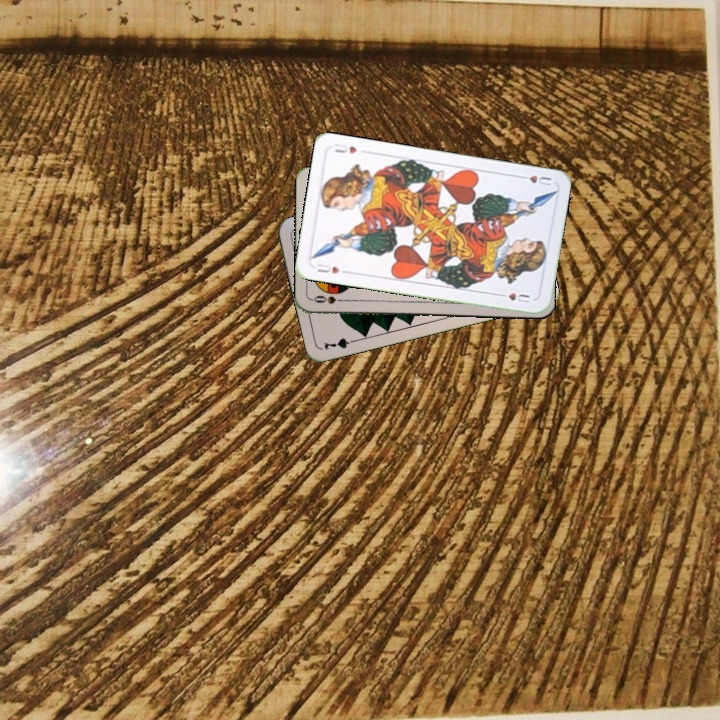G7: (320, 334, 360, 352)
HU: (515, 171, 554, 188), (314, 260, 350, 276)
SO: (310, 292, 350, 306)
